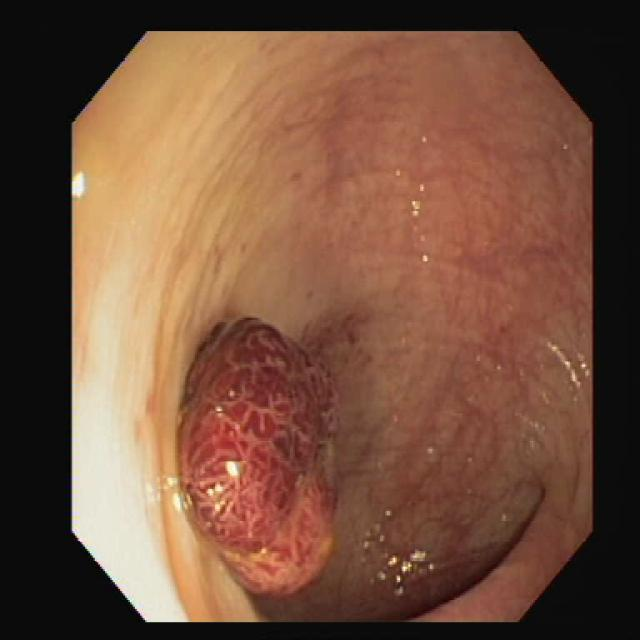tumor: (178, 318, 335, 591)
